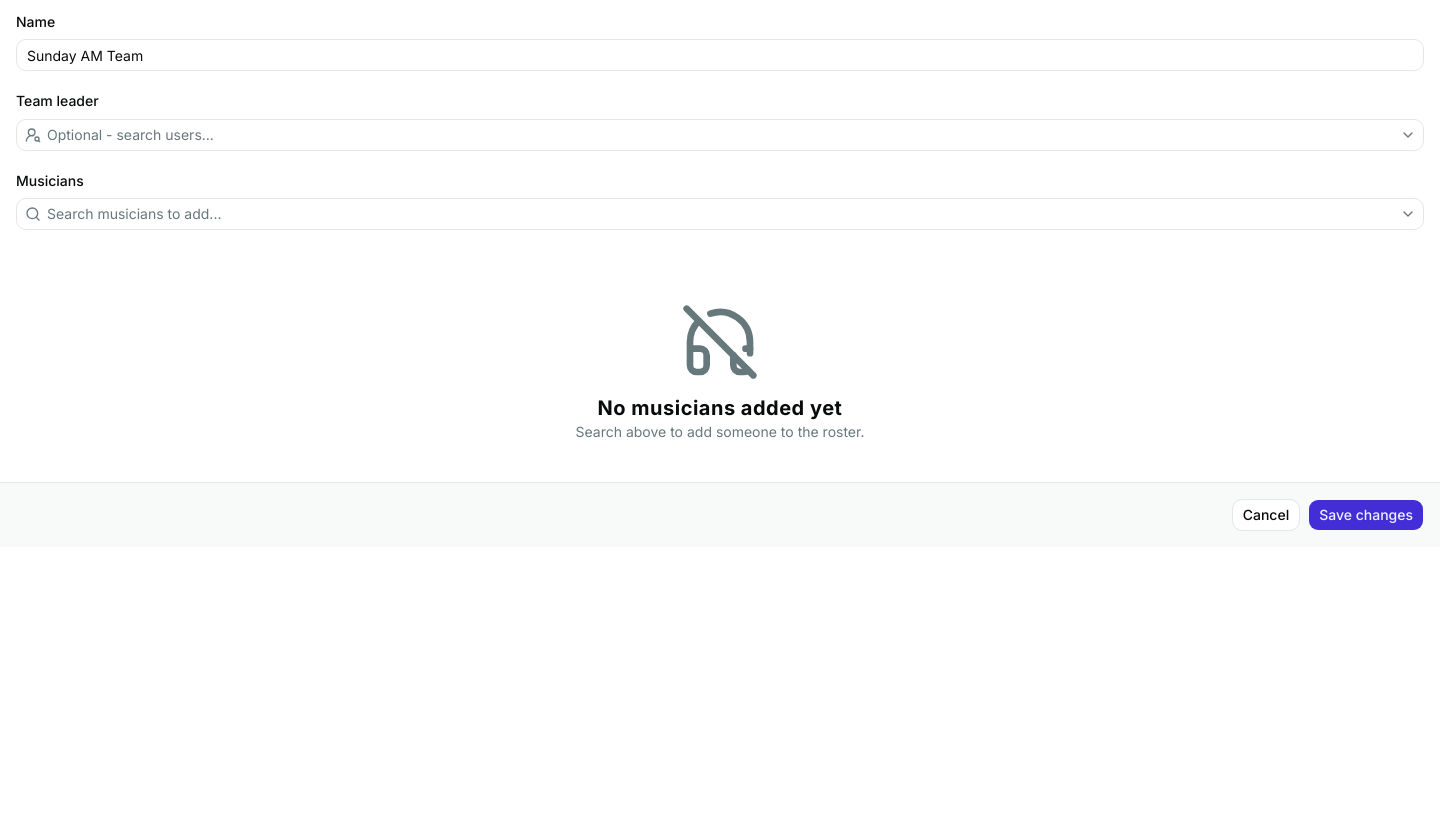
Test case: EditTeamForm › blocks submission and shows an inline error when name is cleared
Clear the field labelled "Name" at (720, 55), box 16,39 -> 1424,71
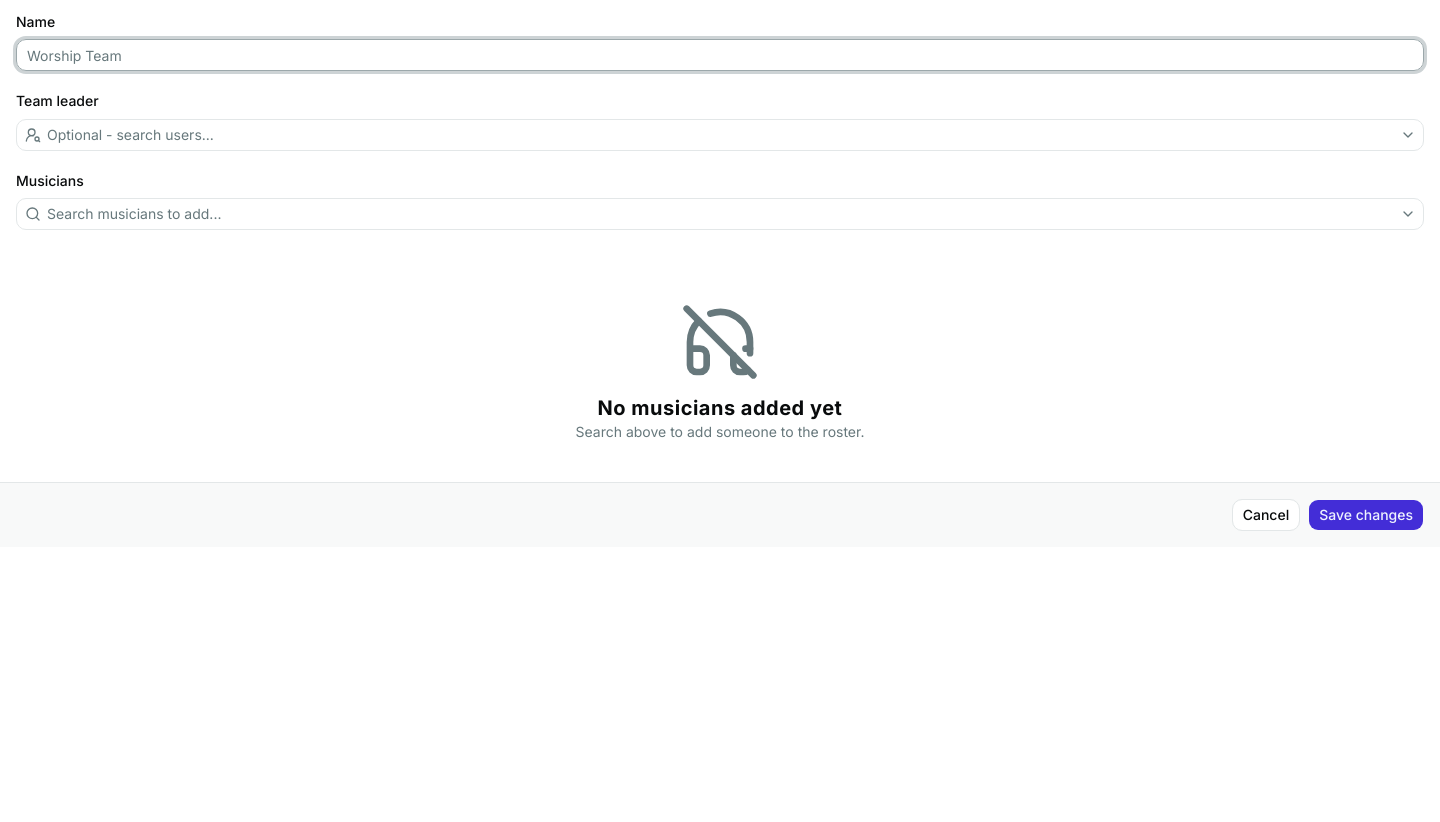
Click the button "Save changes" at (1366, 515), box 1308,499 -> 1424,531
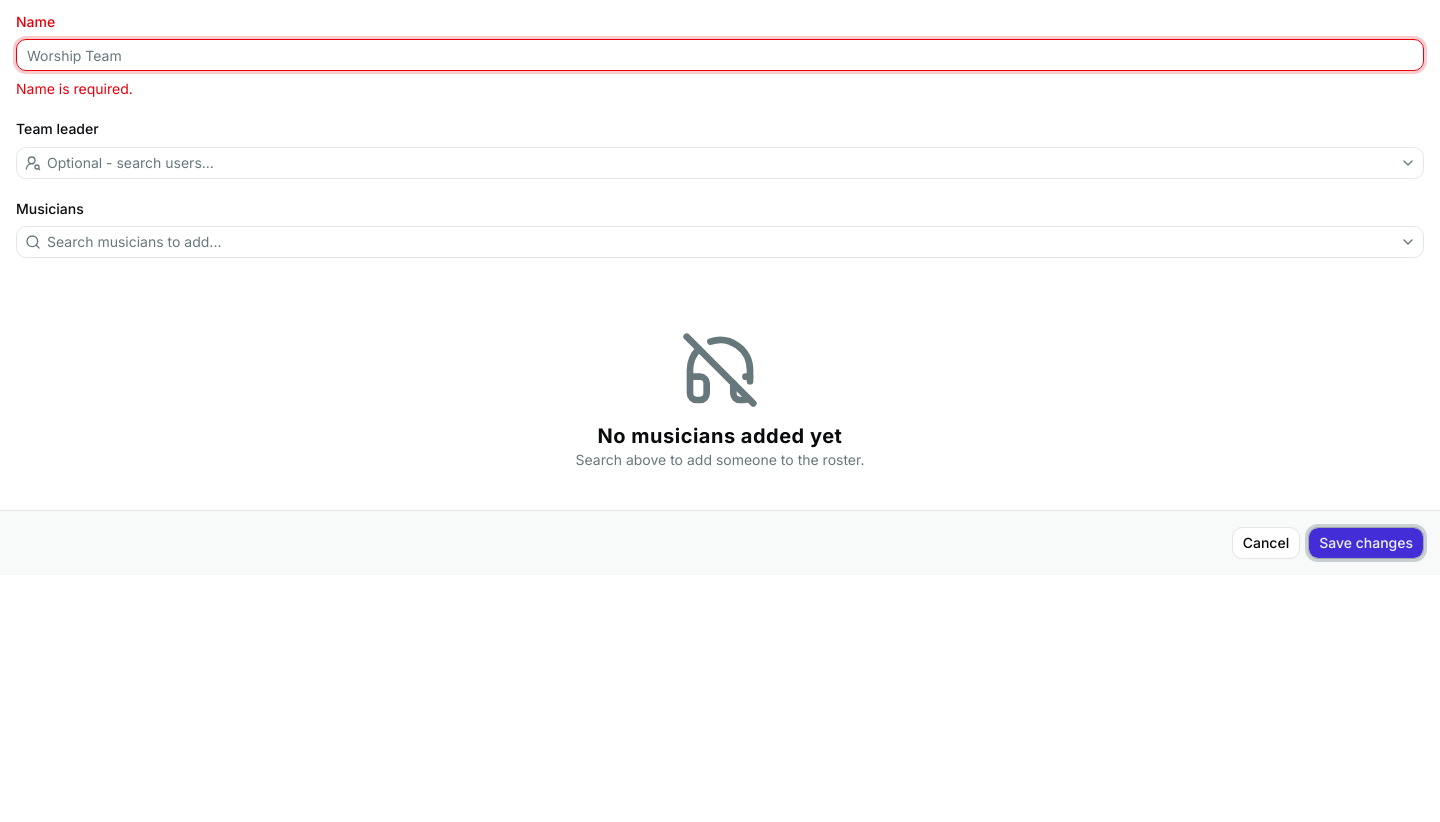
Check: the text "Name is required." is shown, box 16,80 -> 133,97
